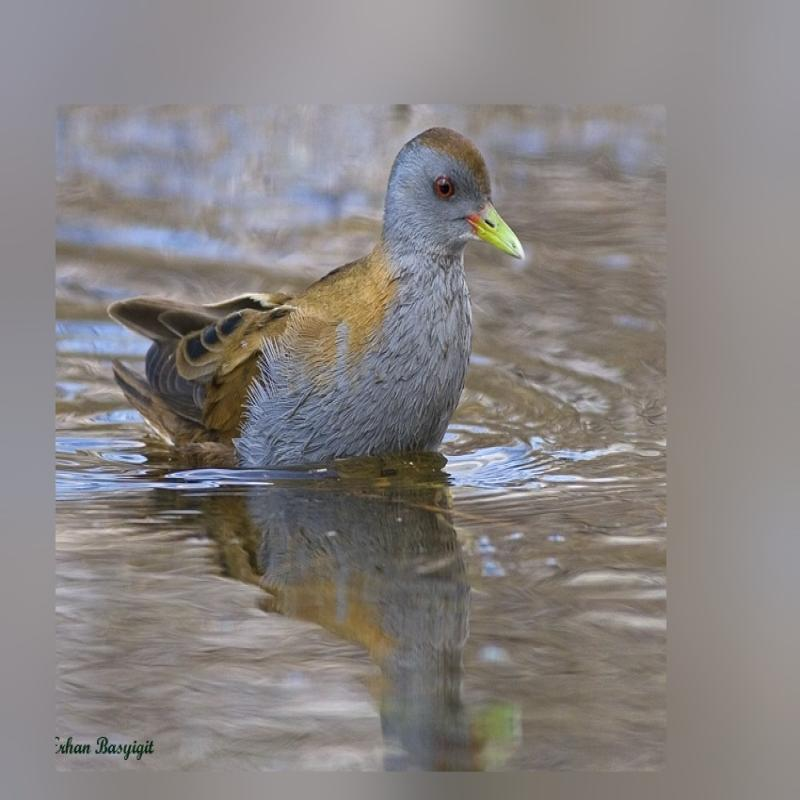little crake: (104, 123, 536, 470)
